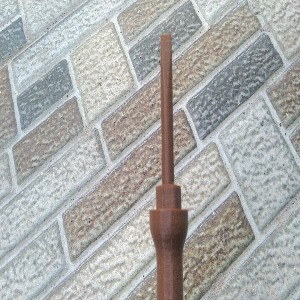obeng: (149, 33, 189, 300)
